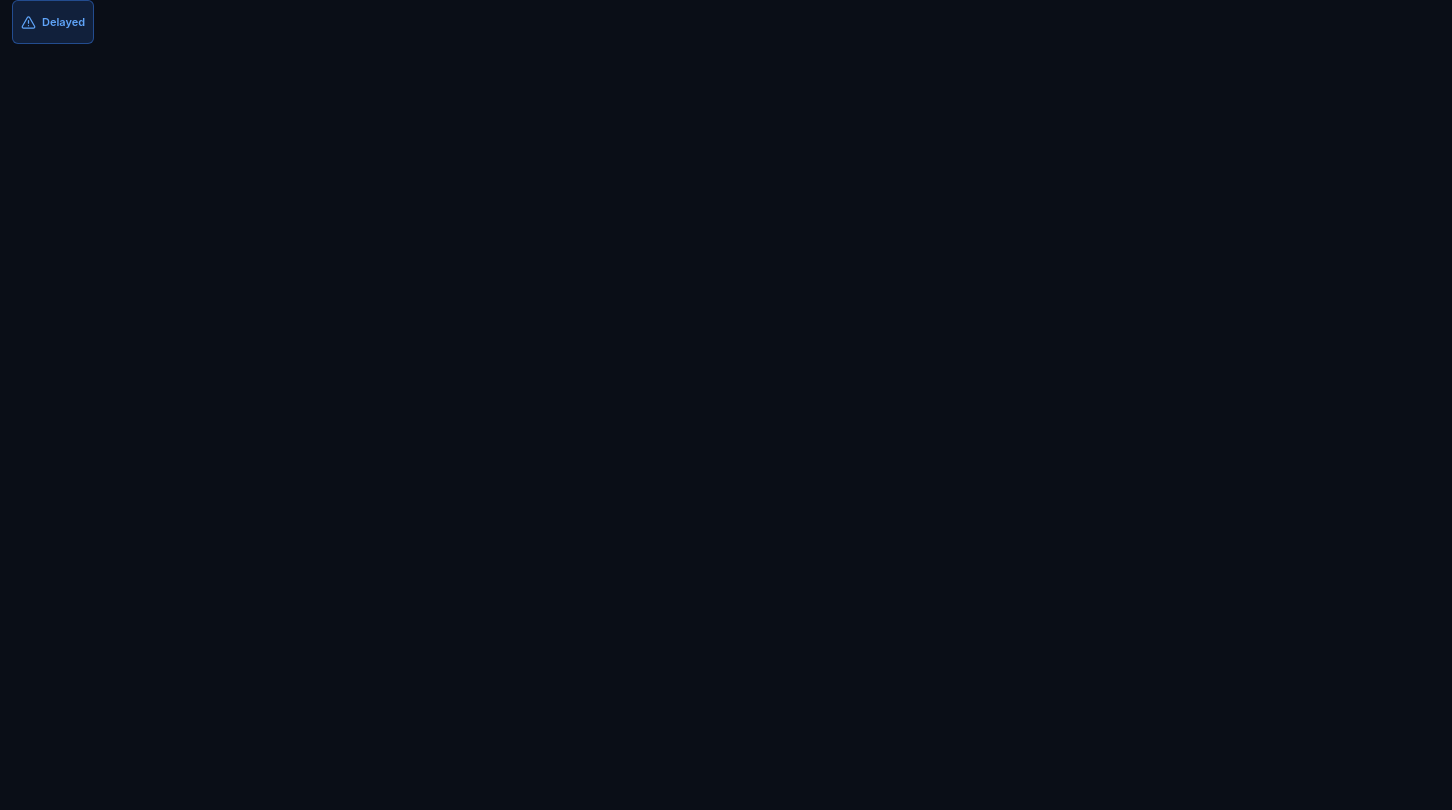
Test case: DashboardHealth › keeps dated and unknown warnings available in a focusable details region
Step 1. Click the button with aria-label "Workspace health:" → [53, 22], box [12,0,94,44]
(page scrolled)
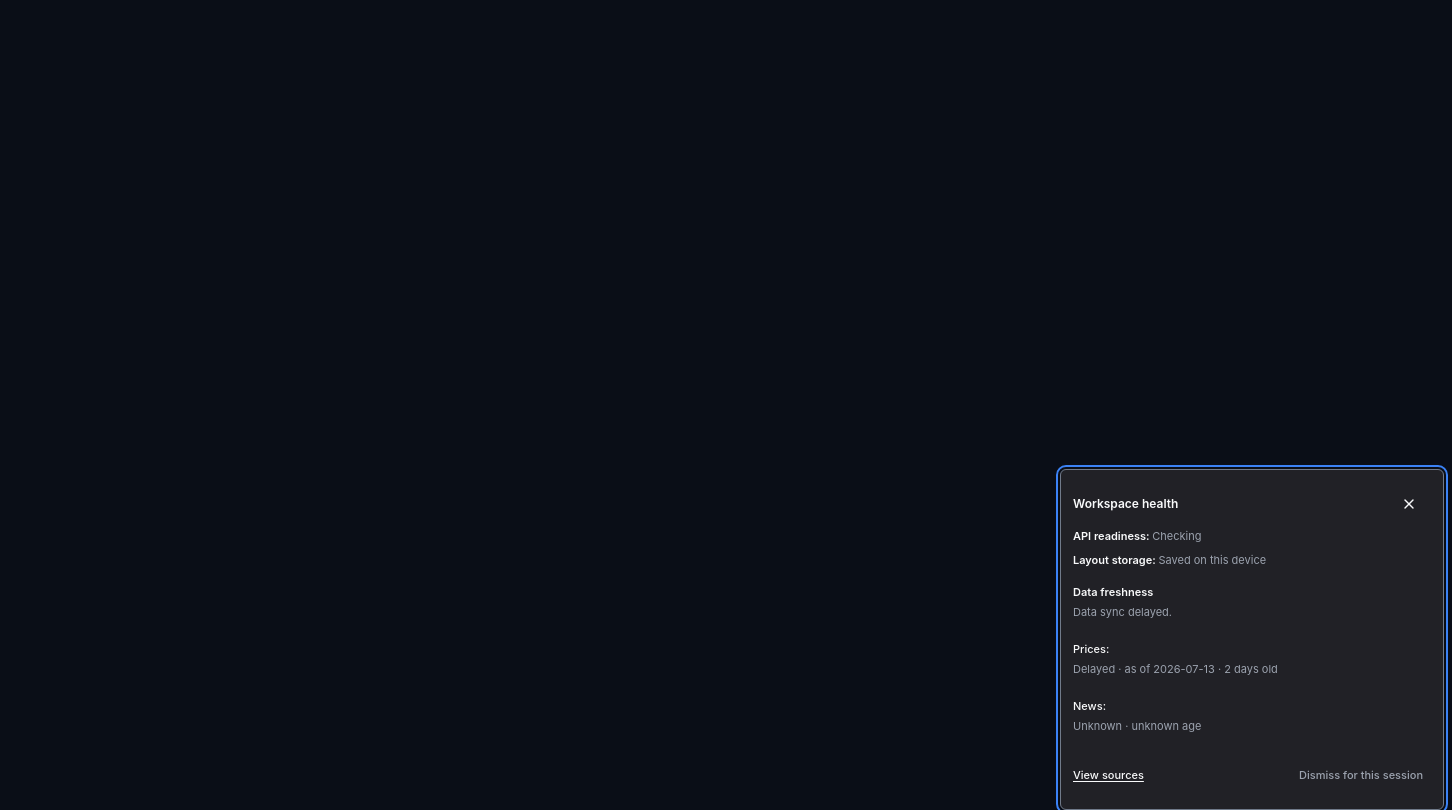
Now the text "Prices:" is shown, box [1073,642,1109,656]
Now the text "as of 2026-07-13 · 2 days old" is shown, box [1124,662,1278,676]
Now the text "News:" is shown, box [1073,699,1106,713]
Step 2. Press Escape in the element named "Workspace health details", box [1060,469,1444,809]
(page scrolled)
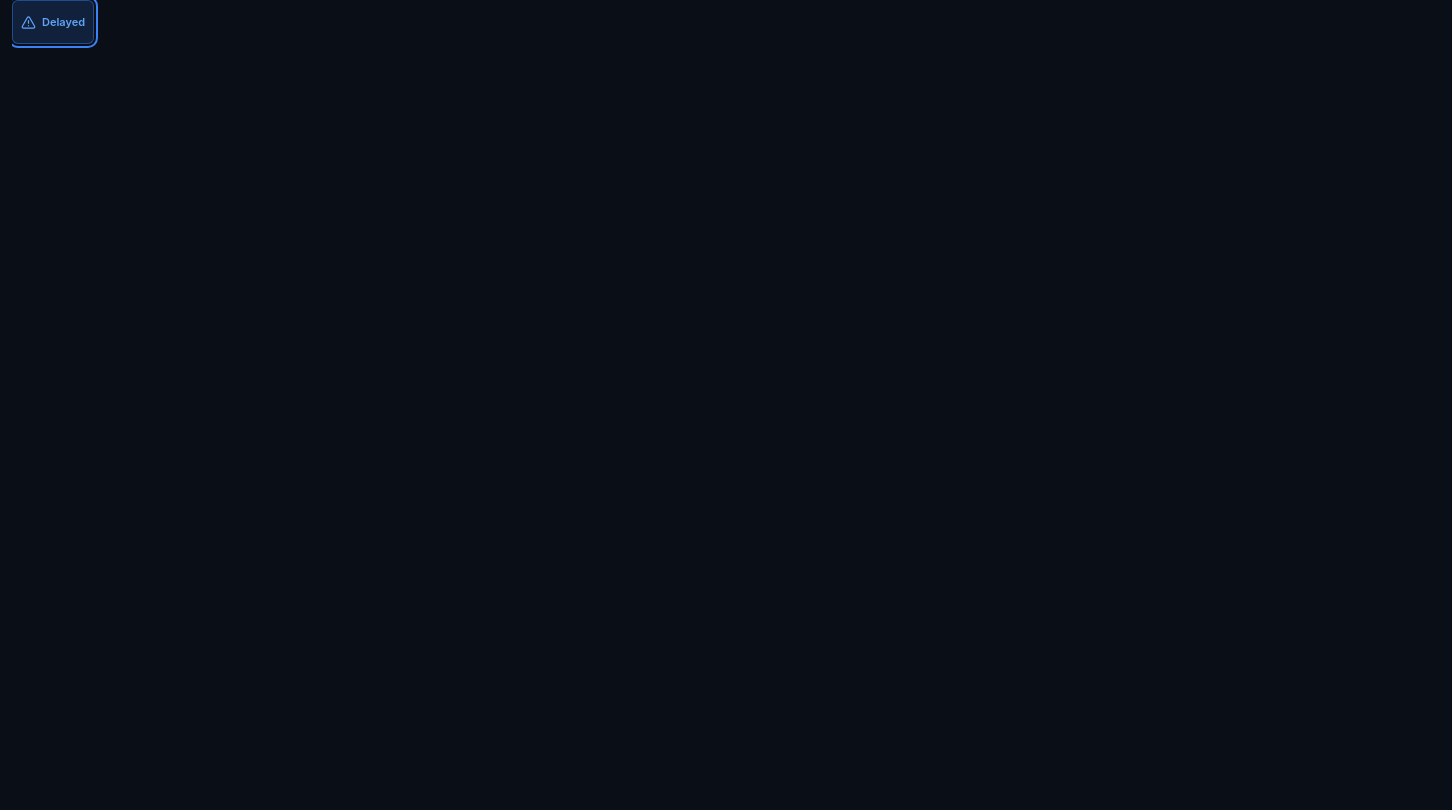
Now the button with aria-label "Workspace health:" is collapsed, box [12,0,94,44]
